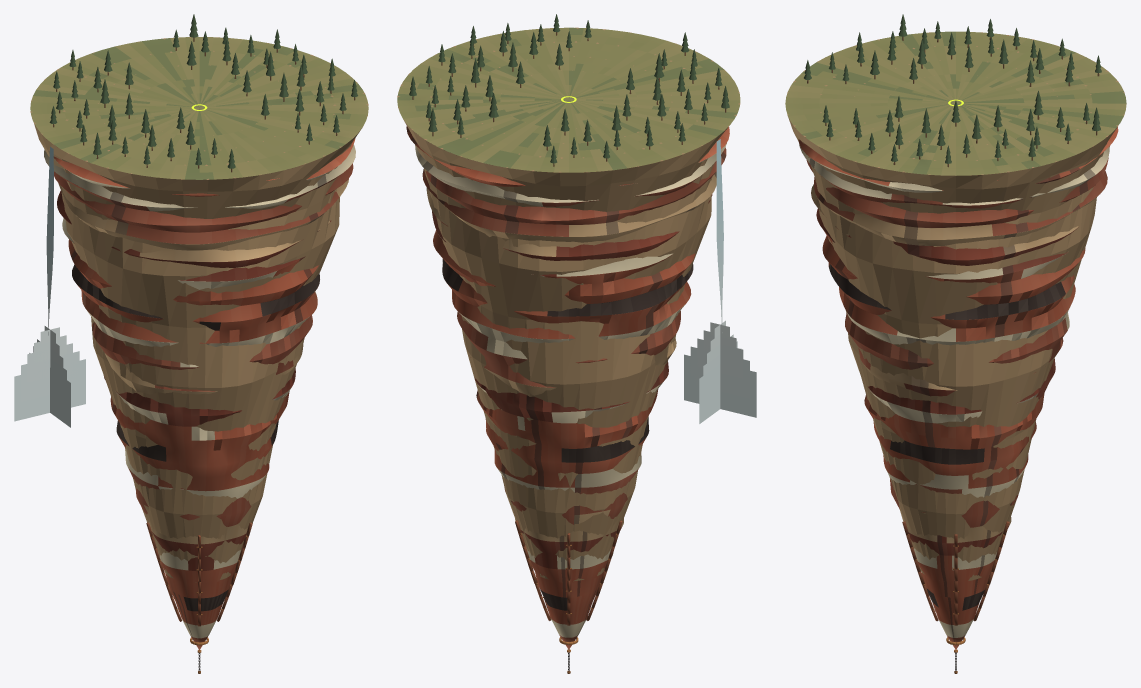
The model's file is landmark_sky_island.glb.
3 renders of one model, left to right at view 1: azimuth 30°, elevation 25°; view 2: azimuth 150°, elevation 25°; view 3: azimuth 270°, elevation 25°, orthographic.
Parts seen in each view (by area): view 1: landmark_sky_island, landmark_sky_island-col-col; view 2: landmark_sky_island, landmark_sky_island-col-col; view 3: landmark_sky_island, landmark_sky_island-col-col.
Boxes of the visible parts, x1,y1,x2,y2 form: landmark_sky_island: (14,14,368,649); landmark_sky_island-col-col: (30,37,368,582); landmark_sky_island: (397,14,756,649); landmark_sky_island-col-col: (397,27,740,581); landmark_sky_island: (785,14,1126,649); landmark_sky_island-col-col: (787,32,1124,580).
Bounding box in the file's own units: 204 × 349 × 180.
